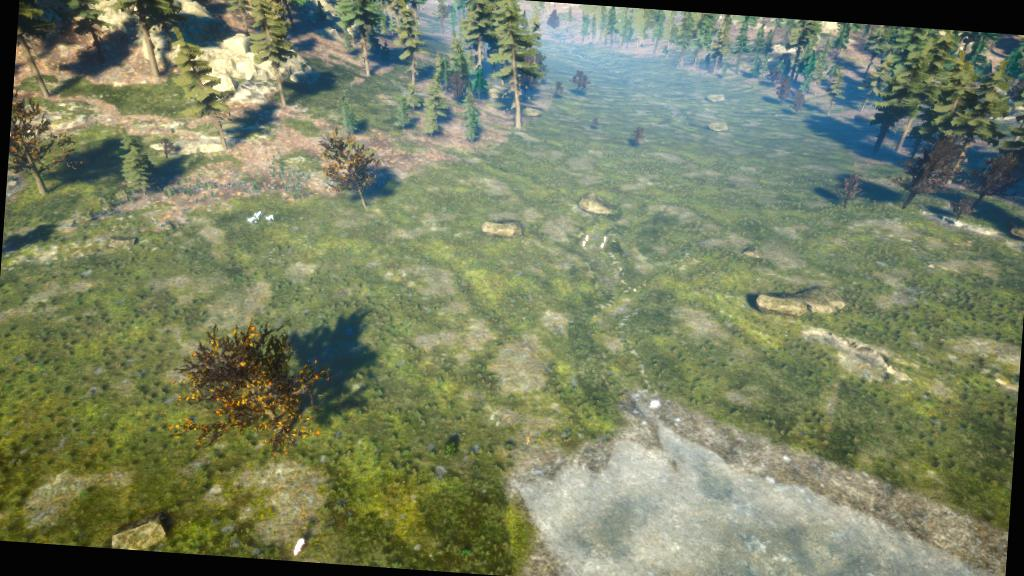human: (600, 234, 608, 244), (596, 241, 604, 250), (583, 234, 589, 243), (580, 240, 586, 249)
pig: (288, 534, 308, 558)
zebra: (251, 208, 264, 220), (262, 214, 276, 224), (244, 215, 258, 225)
